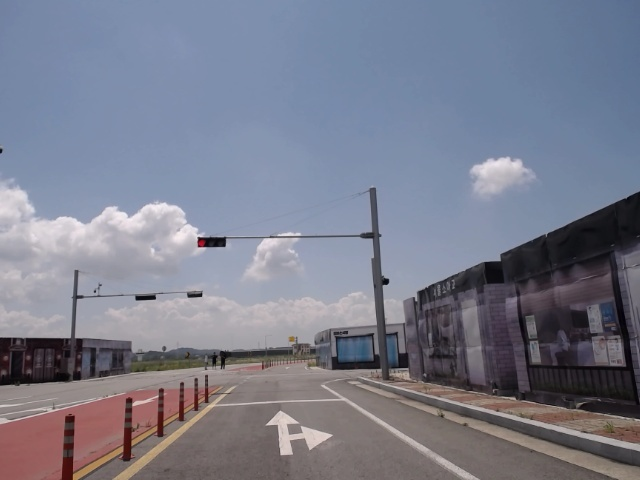red_3: (197, 236, 229, 248)
